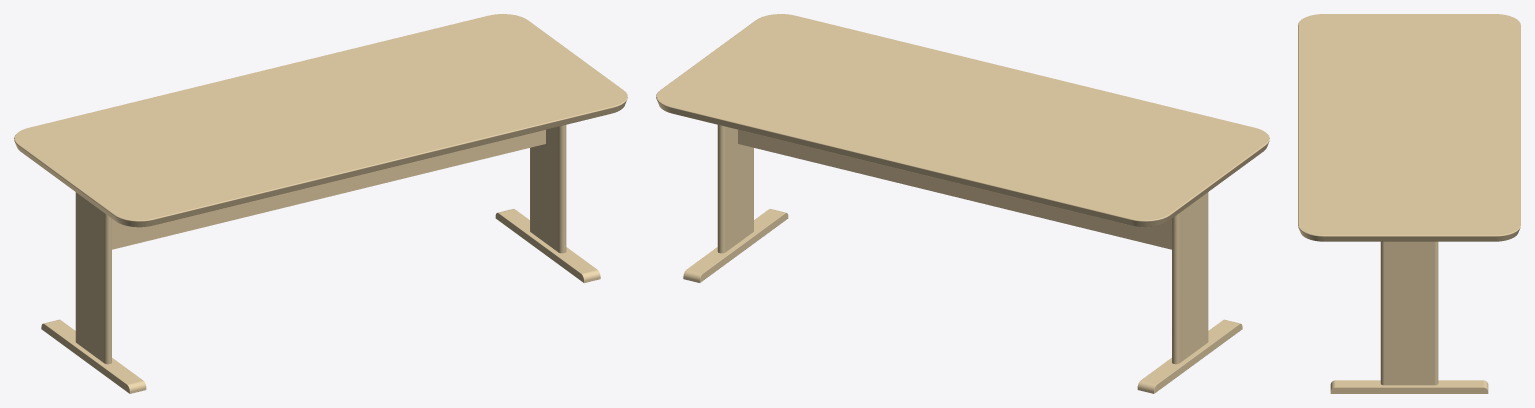
The model's file is 528_ダイニングテーブル6人掛け.glb.
3 renders of one model, left to right at view 1: azimuth 30°, elevation 25°; view 2: azimuth 150°, elevation 25°; view 3: azimuth 270°, elevation 25°, orthographic. The views are drawn at different scales.
Visible parts, largest first — view 1: Body; view 2: Body; view 3: Body.
Boxes of the visible parts, box(x1,y1,x2,y2) form: Body: box(14, 14, 627, 393); Body: box(656, 14, 1269, 393); Body: box(1298, 14, 1520, 393).
Size of the model in its own units: 2 by 0.7 by 0.8474.
